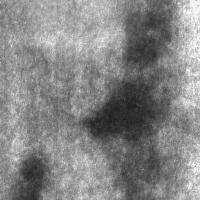patches: (12, 0, 142, 66), (89, 78, 166, 166), (125, 14, 164, 63), (15, 154, 46, 200)
